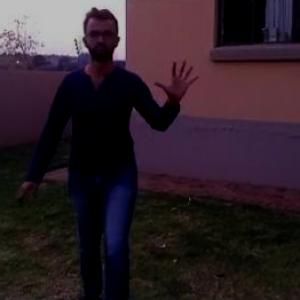follow_hand: (153, 55, 204, 103)
